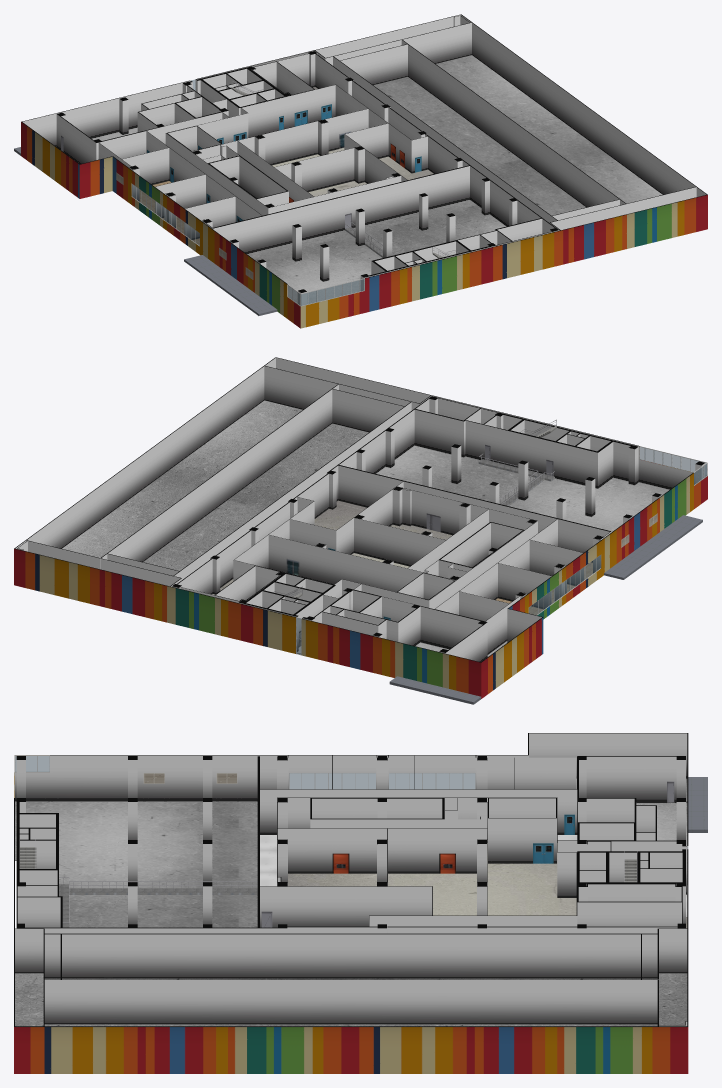
The picture shows the model from 3 angles, top to bottom: view 1: azimuth 30°, elevation 25°; view 2: azimuth 150°, elevation 25°; view 3: azimuth 270°, elevation 25°; orthographic projection. The views are drawn at different scales.
Visible parts, largest first — view 1: W&FF-2F, Line1195, Line1210, 3유리001, Box297, Line1212, Rectangle1126; view 2: W&FF-2F, Line1195, Line1210, 3유리001, Box297, Line1212, Box290, Rectangle1126, Line1211; view 3: W&FF-2F, Line1210, Line1212, Line1195, 3유리001, Rectangle1126, Line1211, Box290, Line1214, Railing068.
Boxes of the visible parts, box(x1,y1,x2,y2) form: W&FF-2F: box(21, 14, 707, 328); Line1195: box(373, 55, 662, 215); Line1210: box(92, 128, 505, 303); 3유리001: box(132, 79, 364, 306); Box297: box(184, 255, 277, 315); Line1212: box(139, 87, 433, 245); Rectangle1126: box(61, 104, 421, 228); W&FF-2F: box(14, 357, 707, 698); Line1195: box(62, 400, 368, 570); Line1210: box(376, 446, 668, 651); 3유리001: box(296, 446, 707, 655); Box297: box(604, 515, 702, 579); Line1212: box(212, 500, 592, 614); Box290: box(389, 676, 481, 704); Rectangle1126: box(286, 444, 553, 646); Line1211: box(478, 459, 554, 506); W&FF-2F: box(14, 733, 688, 1073); Line1210: box(15, 802, 687, 927); Line1212: box(288, 843, 687, 928); Line1195: box(15, 973, 687, 1026); 3유리001: box(14, 755, 688, 849); Rectangle1126: box(261, 781, 674, 927); Line1211: box(59, 884, 257, 927); Box290: box(688, 777, 707, 832); Line1214: box(260, 835, 687, 916); Railing068: box(19, 838, 637, 882).
Bounding box in the file's own units: 66.85 × 6.14 × 66.73.
Materials: 20 (18 with a texture image).
